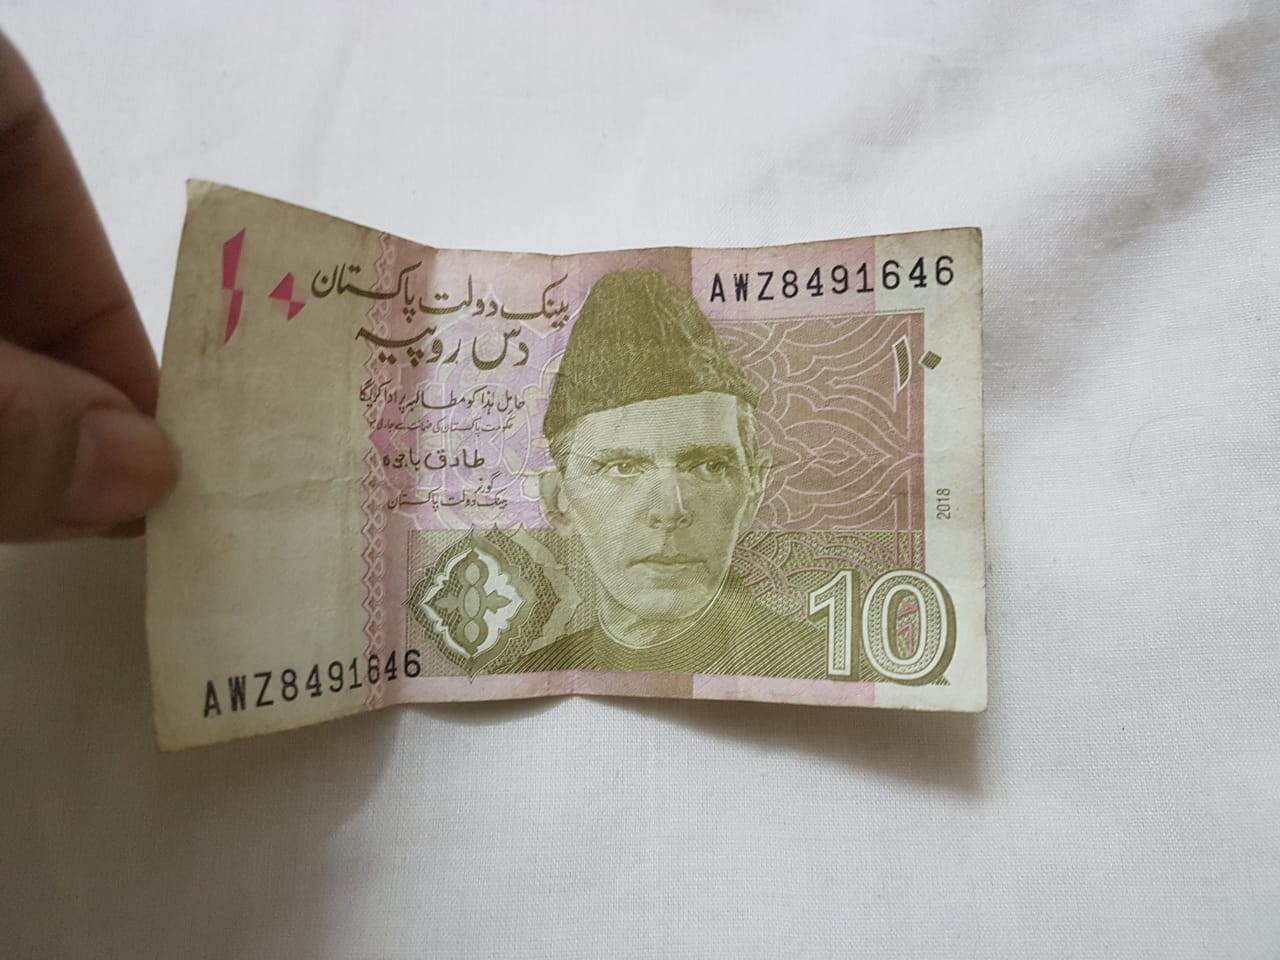10 rupee: (117, 202, 1042, 762)
